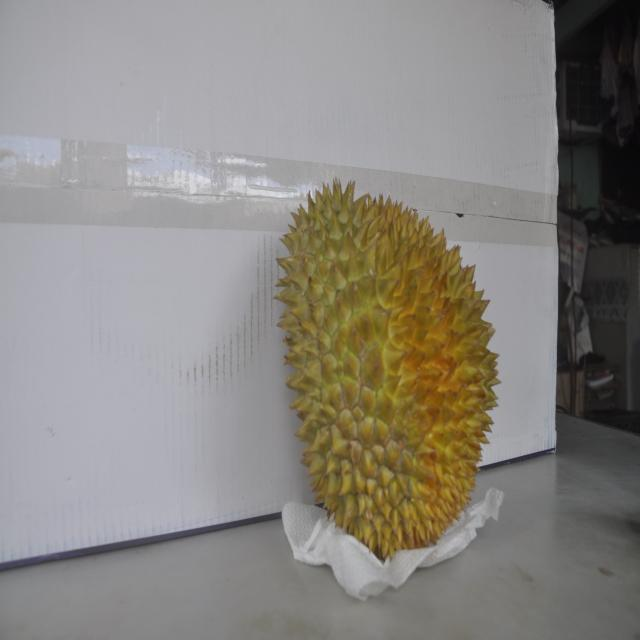mature: (278, 173, 497, 557)
